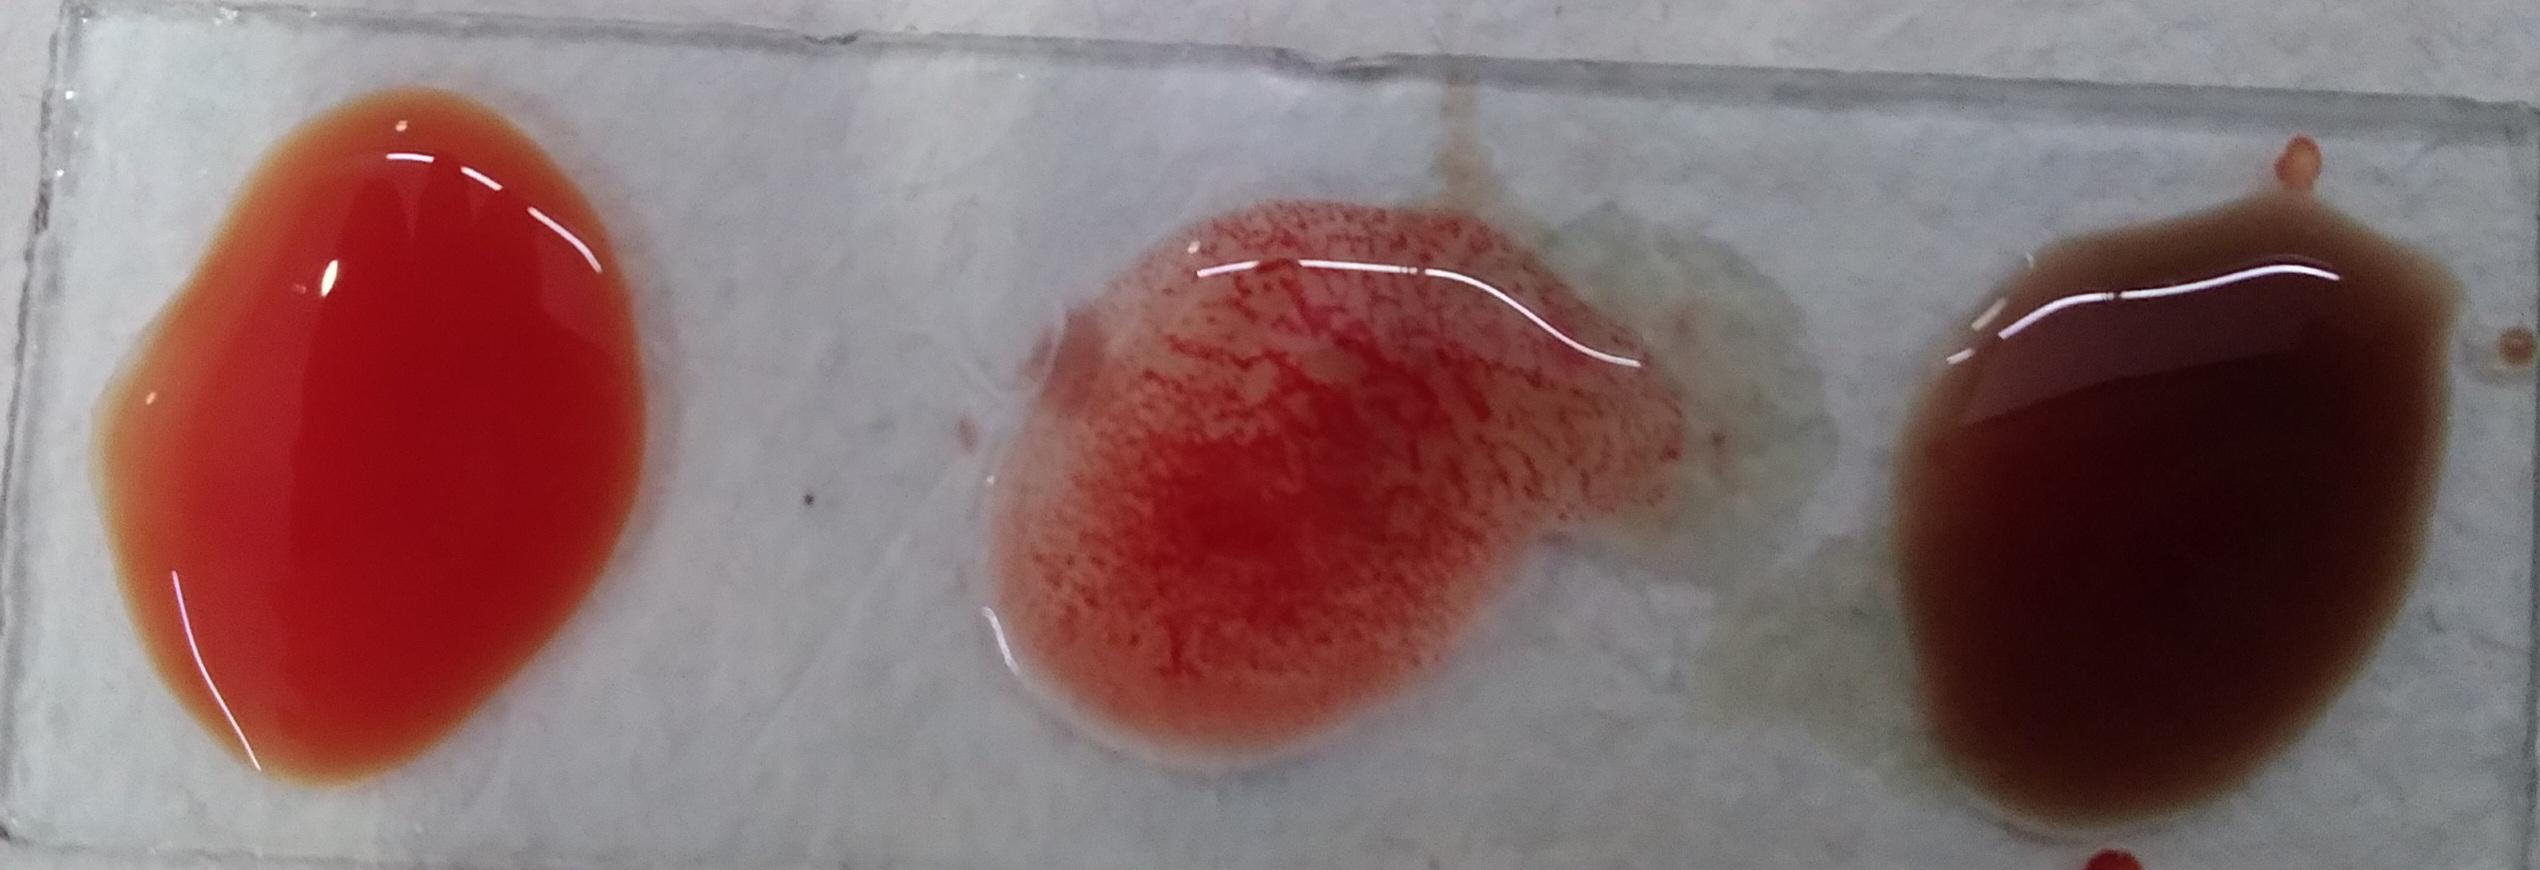D: (920, 105, 1536, 674)
